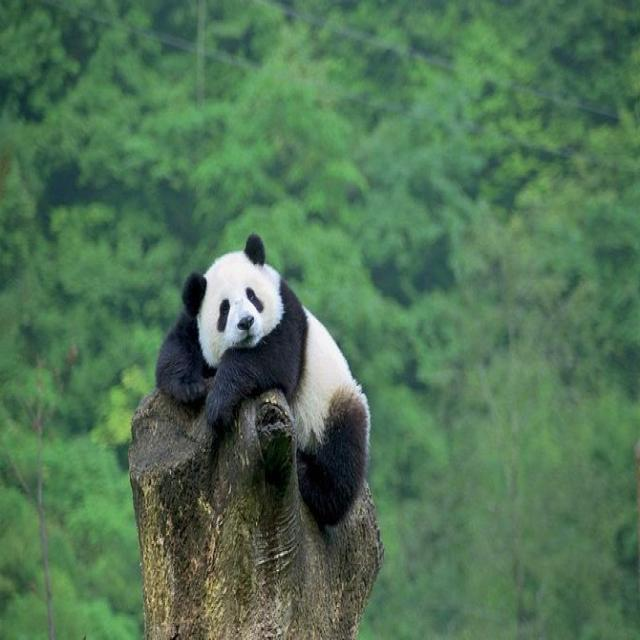panda: (157, 234, 371, 528)
